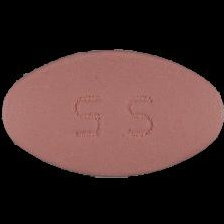33261-541: (0, 0, 224, 224)
